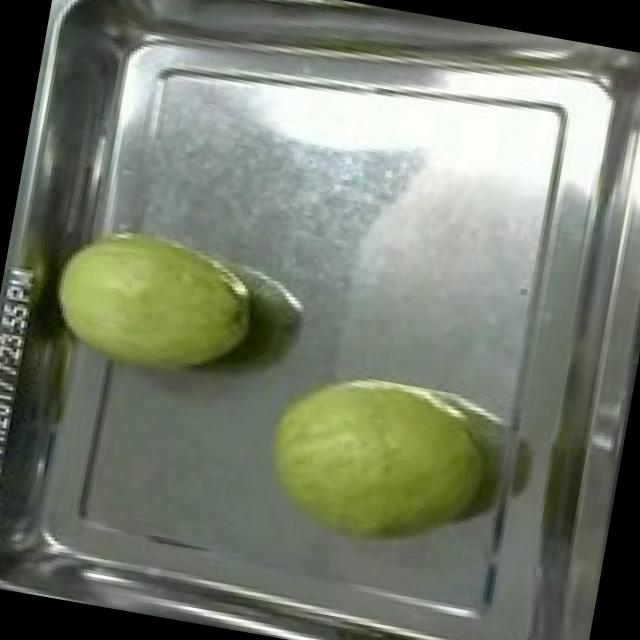Fruit: (244, 344, 507, 568), (31, 202, 272, 398)
